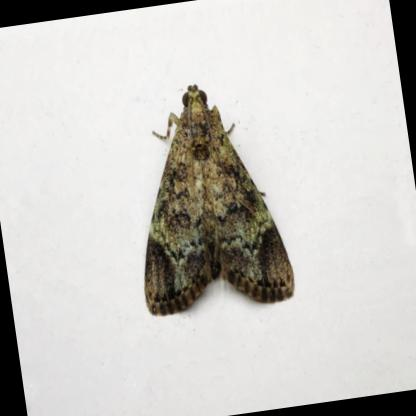Leaf Webber: (144, 77, 294, 311)
